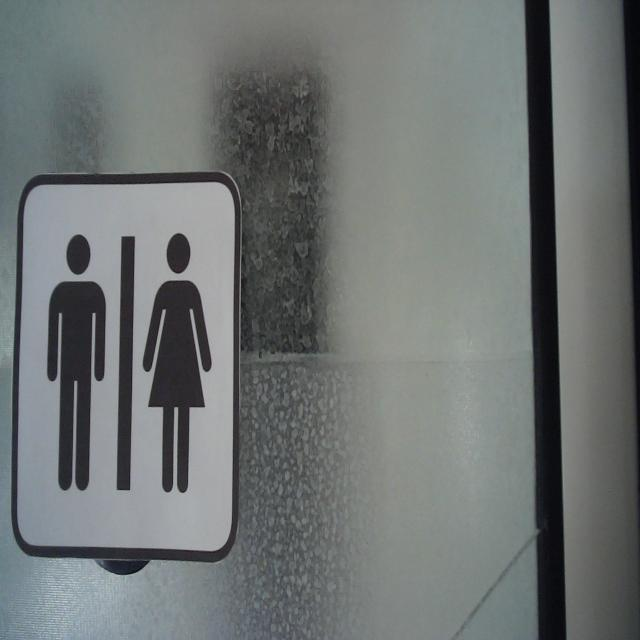restroom: (8, 168, 244, 564)
